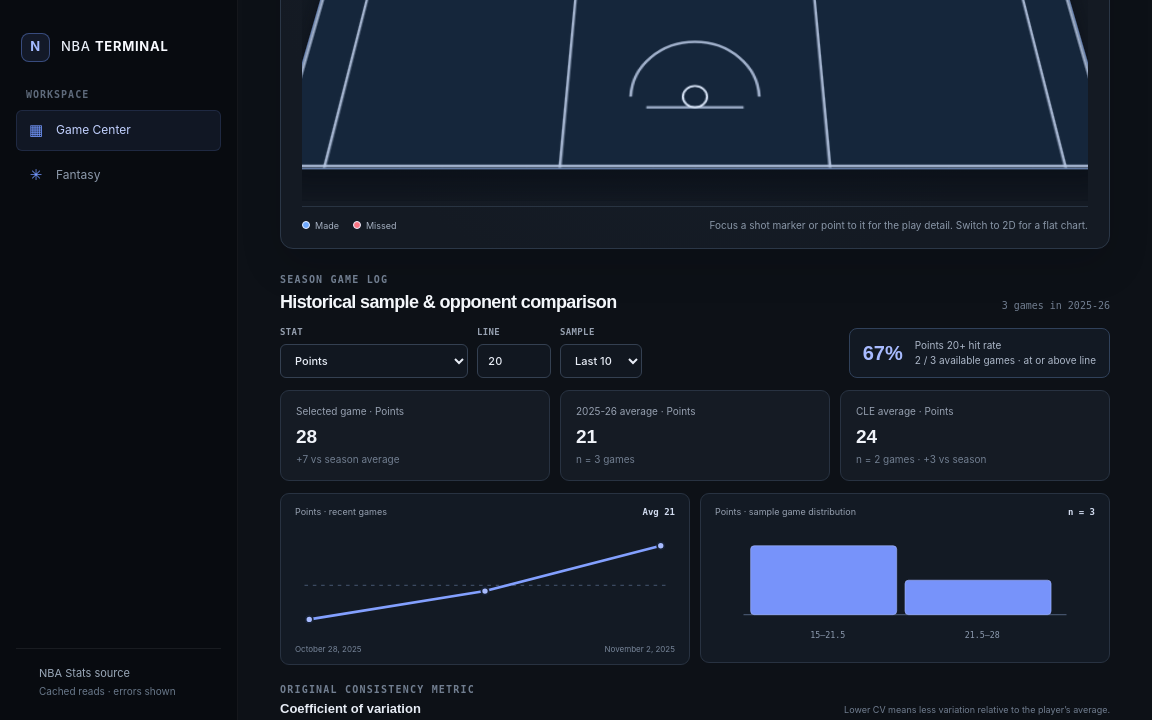
NBA Terminal screens › configures historical lines and samples and filters real shot markers
(page scrolled)
Check: the heading "Historical sample & opponent comparison" is shown, box [280, 292, 616, 313]
Check: the text "67%" is shown, box [863, 343, 903, 363]
Replace the text in the number field named "Stat line" with "30" at [514, 361], box [477, 344, 551, 378]
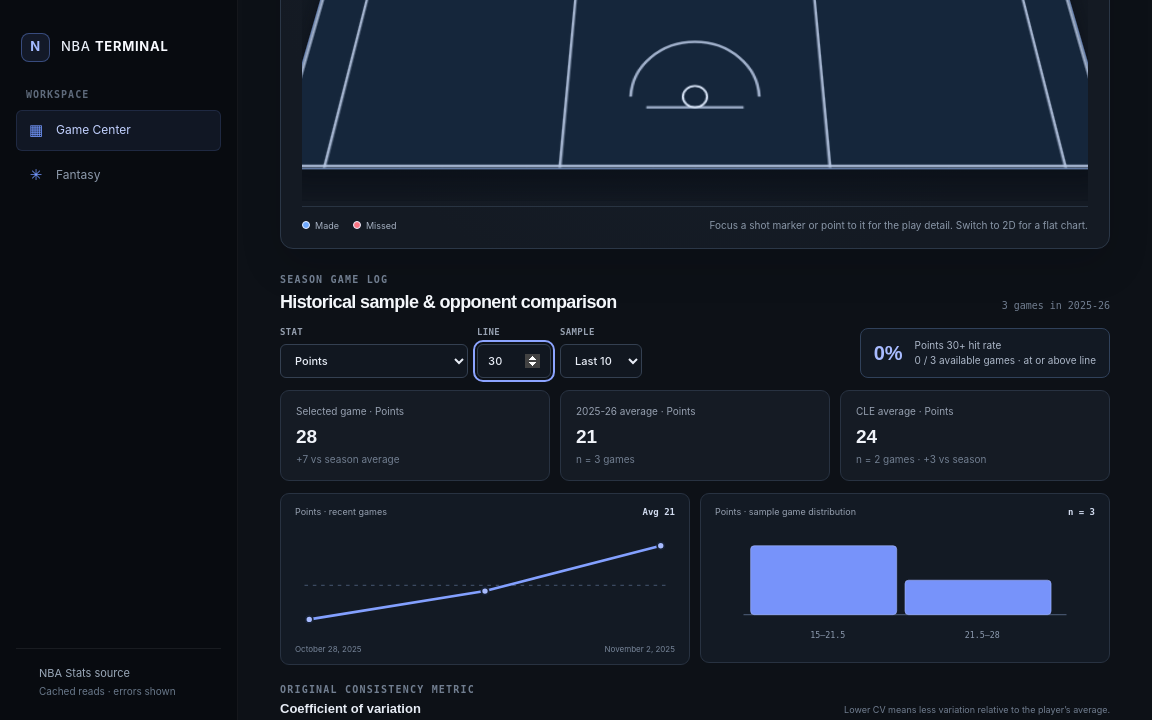
Check: the text "0%" is shown, box [874, 343, 903, 363]
Check: the message "0% Points 30+ hit rate0 / 3 available games · at or above line" is shown, box [860, 328, 1110, 378]
Select "Rebounds" in the dropdown named "Historical stat" at [374, 361], box [280, 344, 468, 378]
(page scrolled)
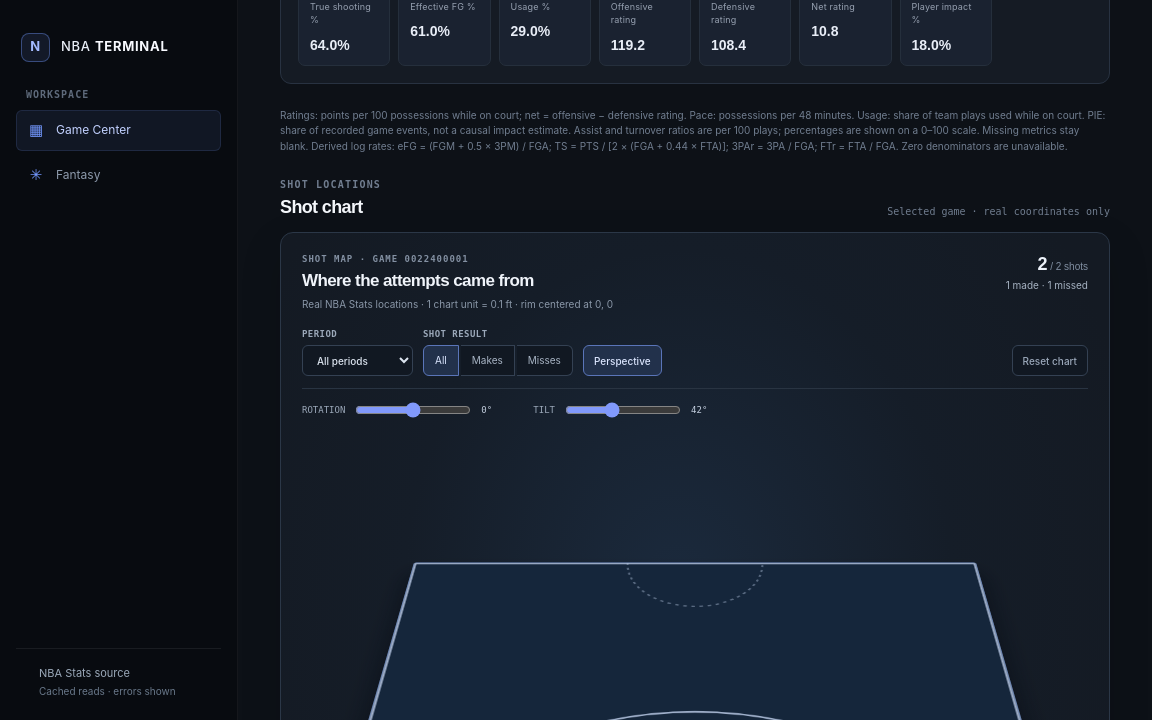
Select "Quarter 2" in the dropdown named "Shot period" at [358, 361], box [302, 345, 413, 376]
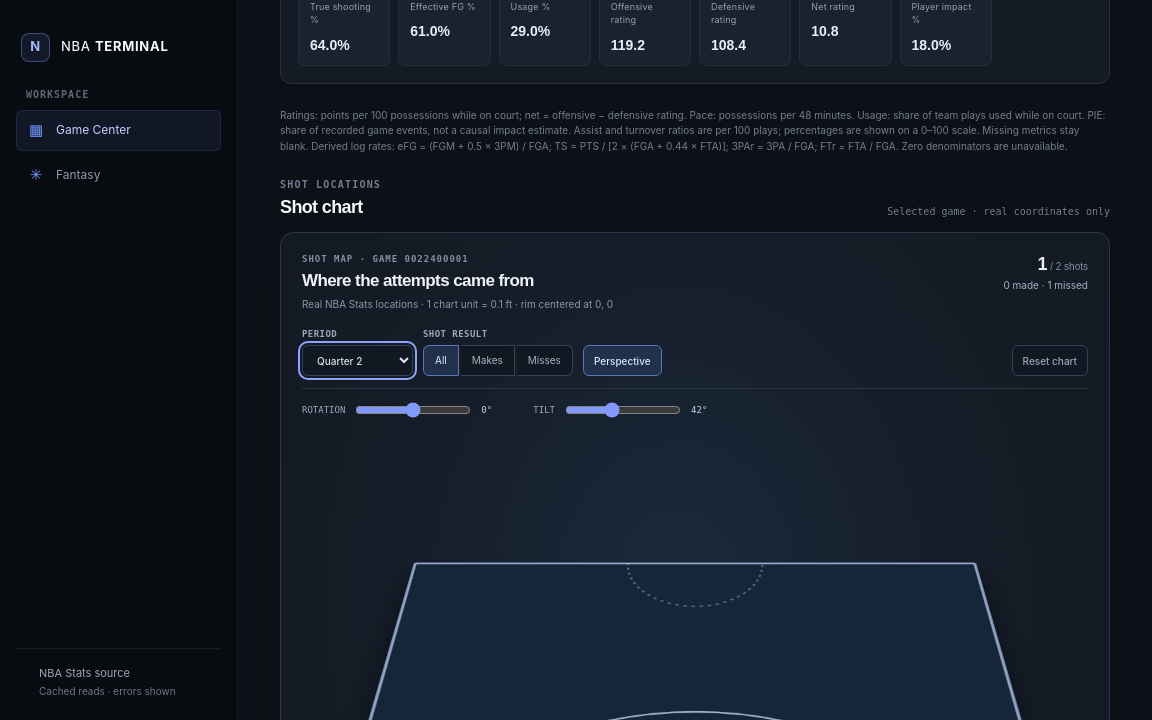
Click the button "Makes" at [488, 361], box [461, 345, 515, 376]
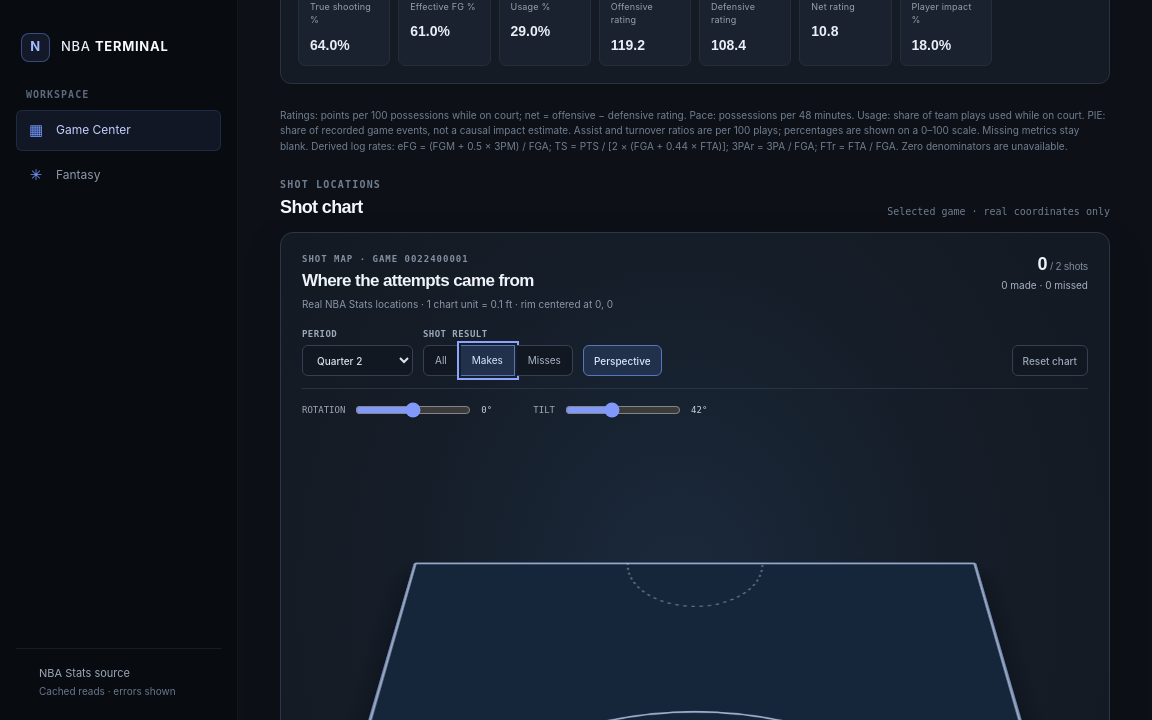
Check: the element showing "0 / 2 shots" is shown, box [1037, 254, 1088, 274]
Click the button "Perspective" at [622, 361], box [583, 345, 662, 376]
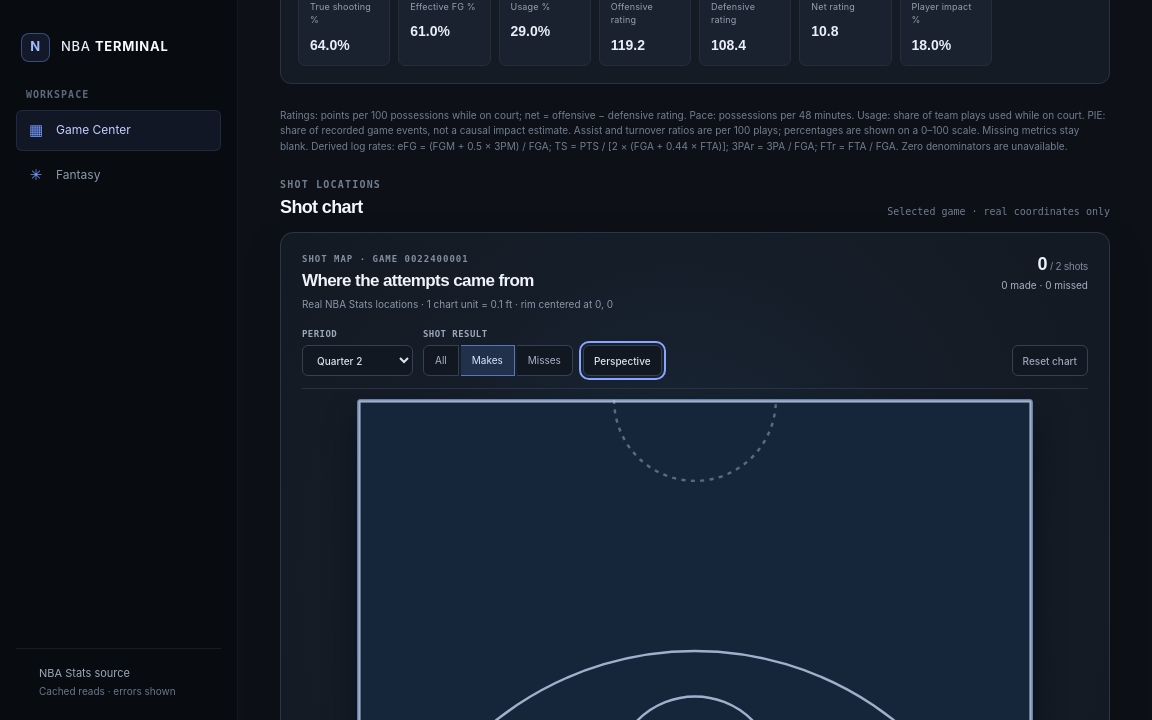
Check: the button "Perspective" is not pressed, box [583, 345, 662, 376]
Click the button "Reset chart" at [1050, 361], box [1012, 345, 1088, 376]
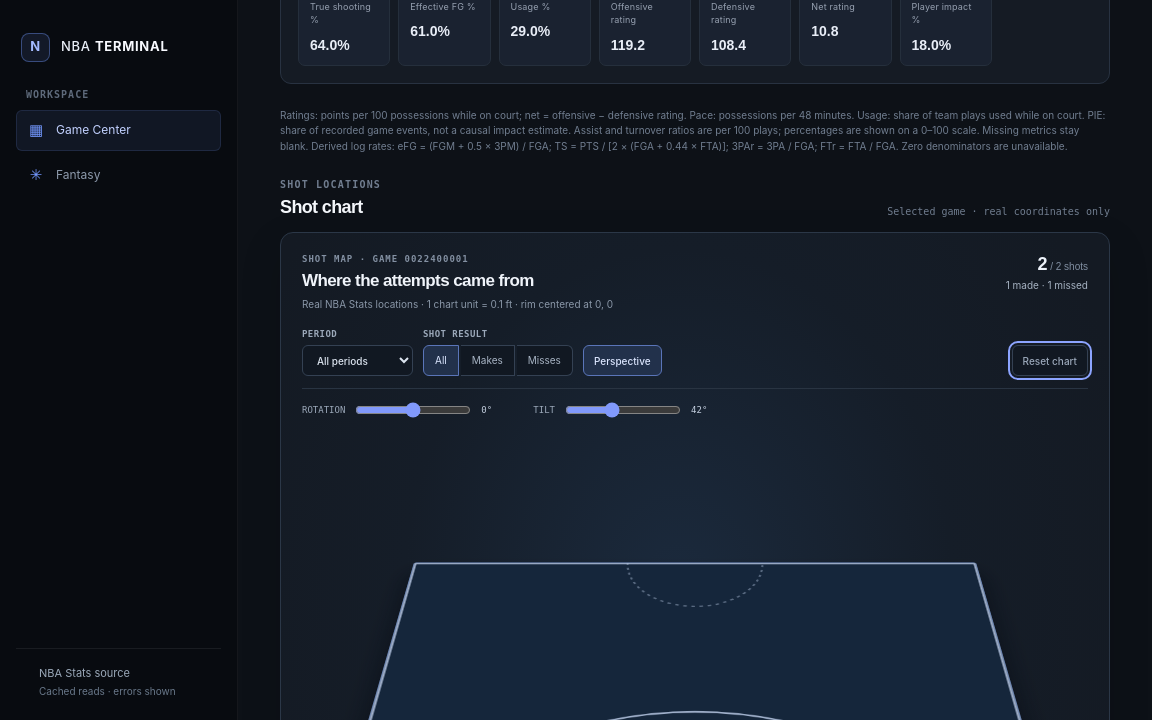
Check: the element showing "2 / 2 shots" is shown, box [1037, 254, 1088, 274]
